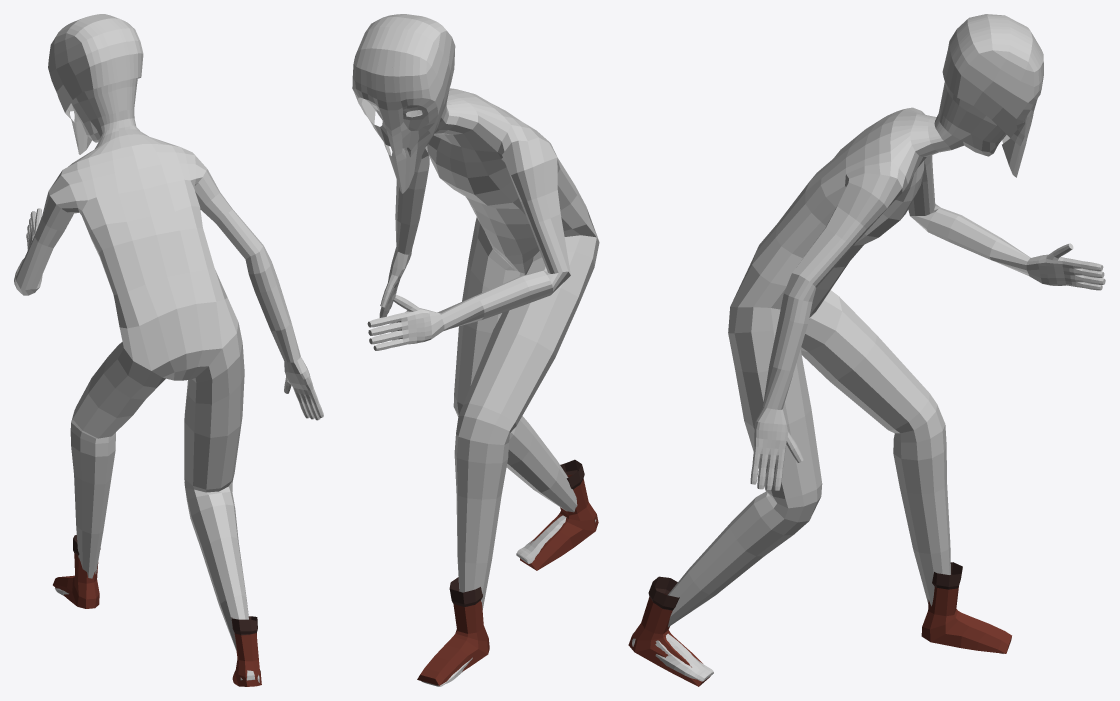
The model's file is saltoadelante_000153.obj.
The picture shows the model from 3 angles, left to right: view 1: azimuth 30°, elevation 25°; view 2: azimuth 150°, elevation 25°; view 3: azimuth 270°, elevation 25°; orthographic projection. The views are drawn at different scales.
Visible parts, largest first — view 1: Plane.002_Plane.001, Plane.003, Plane.004; view 2: Plane.002_Plane.001, Plane.004, Plane.003; view 3: Plane.002_Plane.001, Plane.004, Plane.003.
Part boxes in pixels (x1=…): Plane.002_Plane.001: x1=14, y1=14, x2=323, y2=682; Plane.003: x1=231, y1=616, x2=261, y2=686; Plane.004: x1=53, y1=535, x2=100, y2=608; Plane.002_Plane.001: x1=352, y1=14, x2=599, y2=686; Plane.004: x1=417, y1=577, x2=489, y2=685; Plane.003: x1=520, y1=459, x2=598, y2=570; Plane.002_Plane.001: x1=632, y1=14, x2=1105, y2=681; Plane.004: x1=921, y1=562, x2=1011, y2=653; Plane.003: x1=628, y1=576, x2=710, y2=686.
Size of the model in its own units: 2.56 by 6.02 by 4.01.
